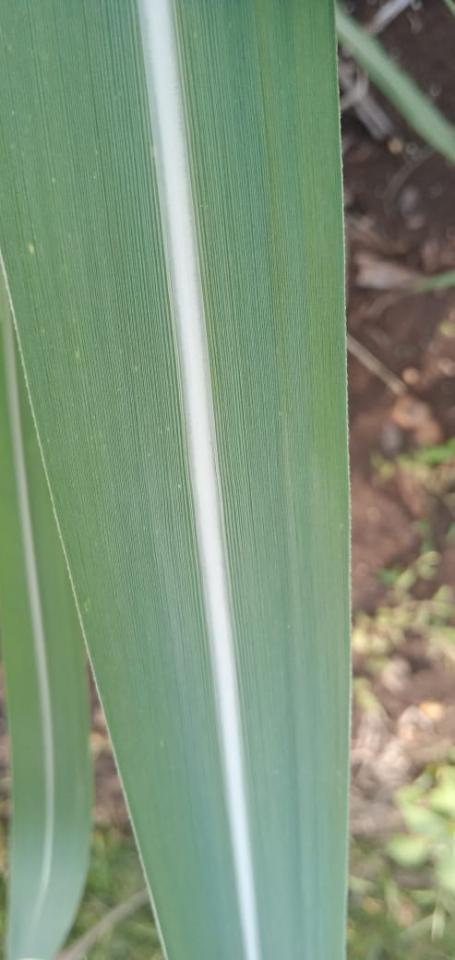Healthy: (0, 0, 245, 959), (175, 0, 351, 959), (12, 312, 93, 959), (0, 320, 43, 959)
